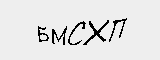Б: (37, 24, 50, 45)
М: (52, 24, 69, 47)
П: (109, 16, 128, 41)
С: (68, 19, 87, 47)
Х: (86, 17, 108, 48)
